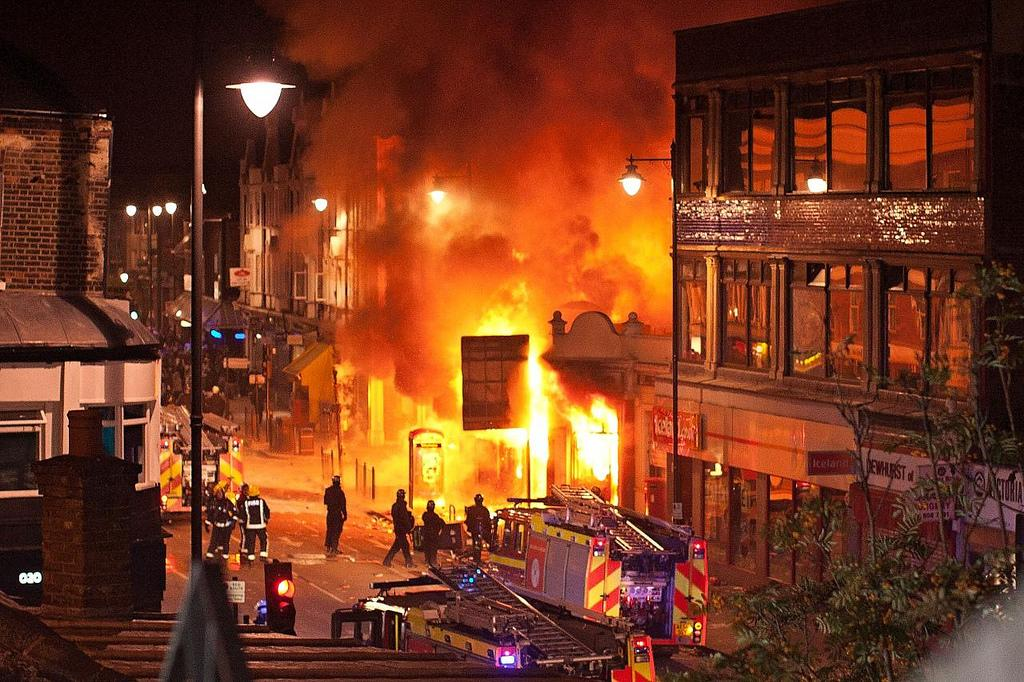fire: (438, 430, 515, 497), (522, 355, 555, 477), (573, 397, 618, 483), (470, 295, 530, 340)
